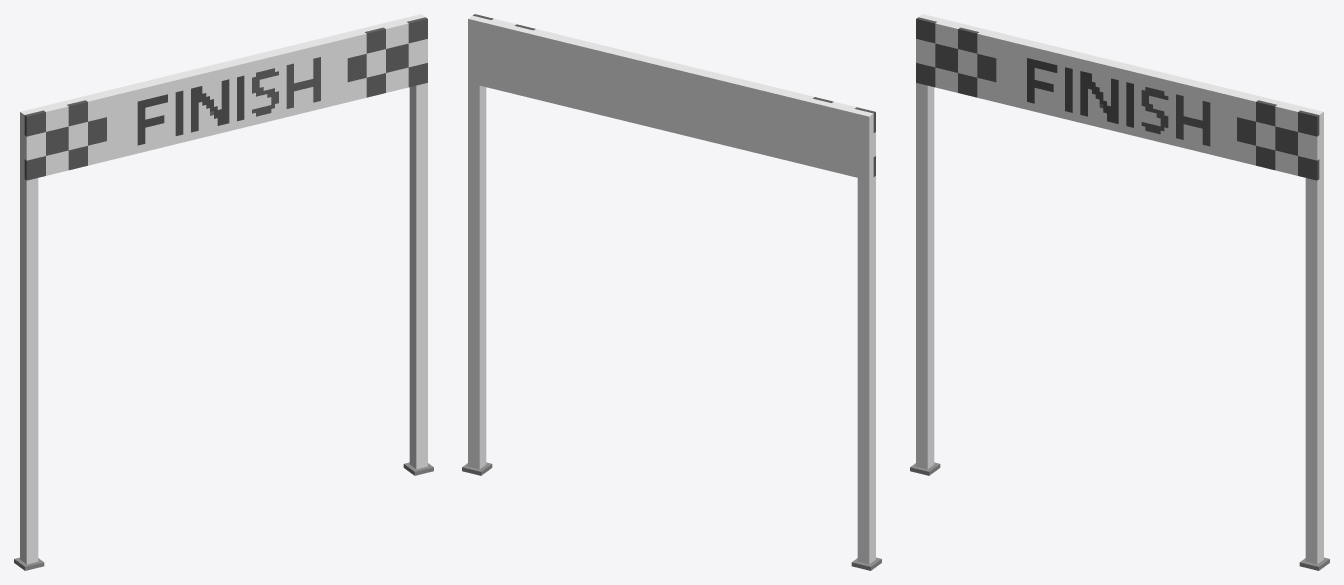
Rendered from Finish Line.obj.
3 renders of one model, left to right at view 1: azimuth 30°, elevation 25°; view 2: azimuth 150°, elevation 25°; view 3: azimuth 330°, elevation 25°, orthographic.
Size of the model in its own units: 107 by 113 by 5.
Materials: 1 (1 with a texture image).
